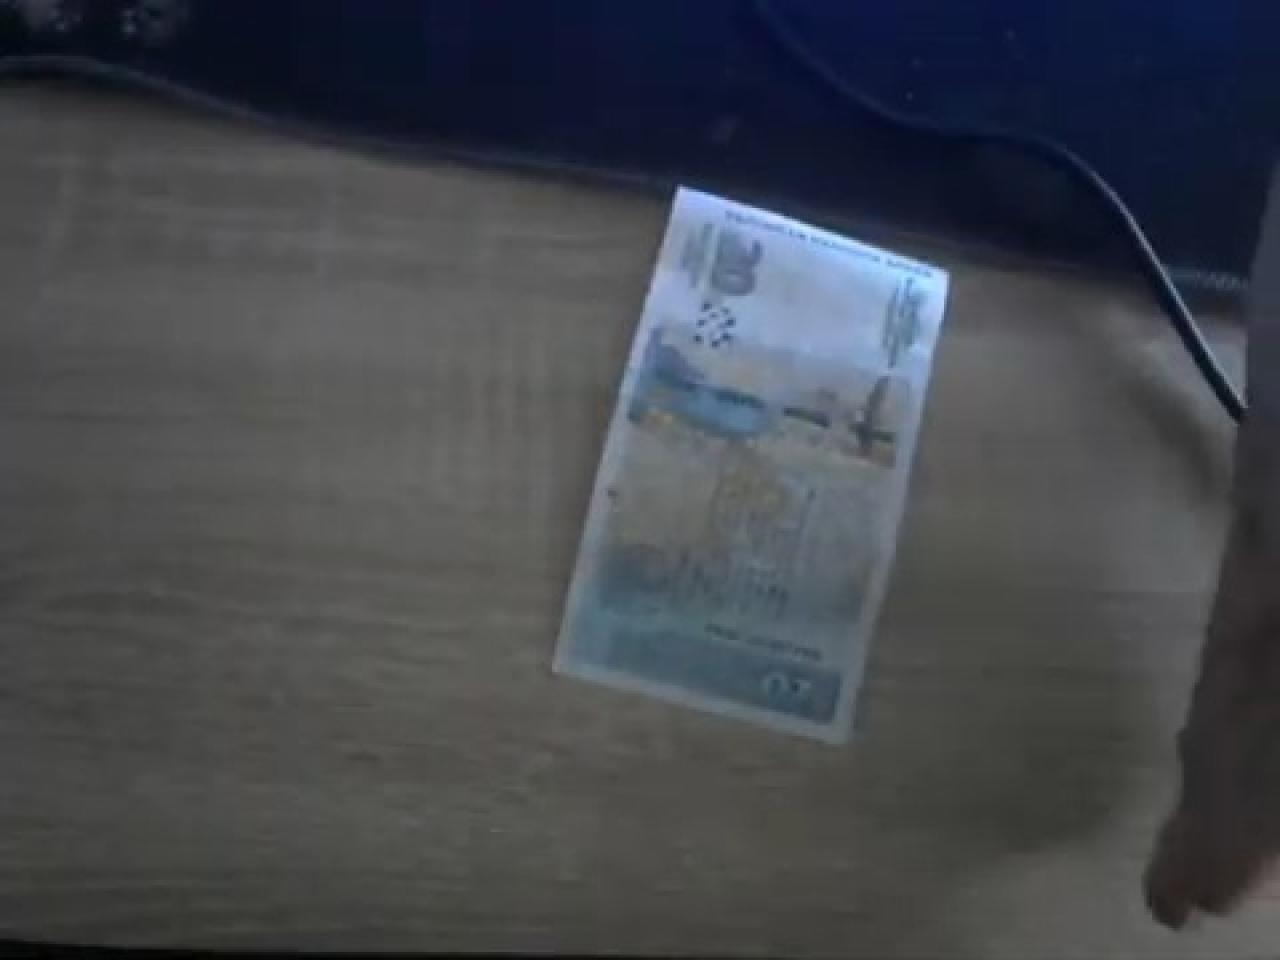20leva: (546, 190, 952, 749)
